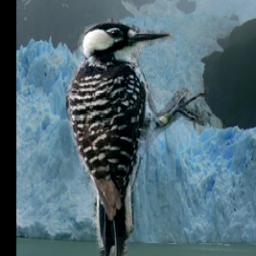Woodpecker: (60, 19, 210, 256)
